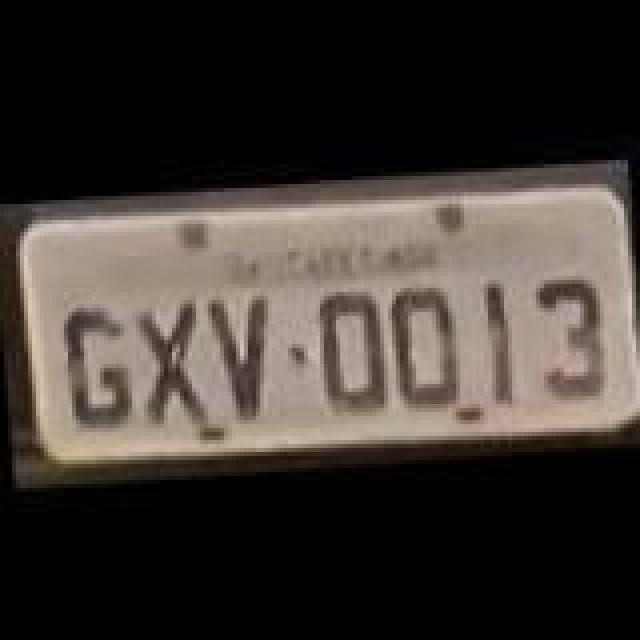1: (472, 268, 520, 408)
3: (528, 268, 616, 400)
G: (54, 306, 138, 434)
O: (382, 278, 466, 410), (310, 284, 394, 412)
V: (210, 286, 286, 422)
X: (128, 294, 208, 430)
